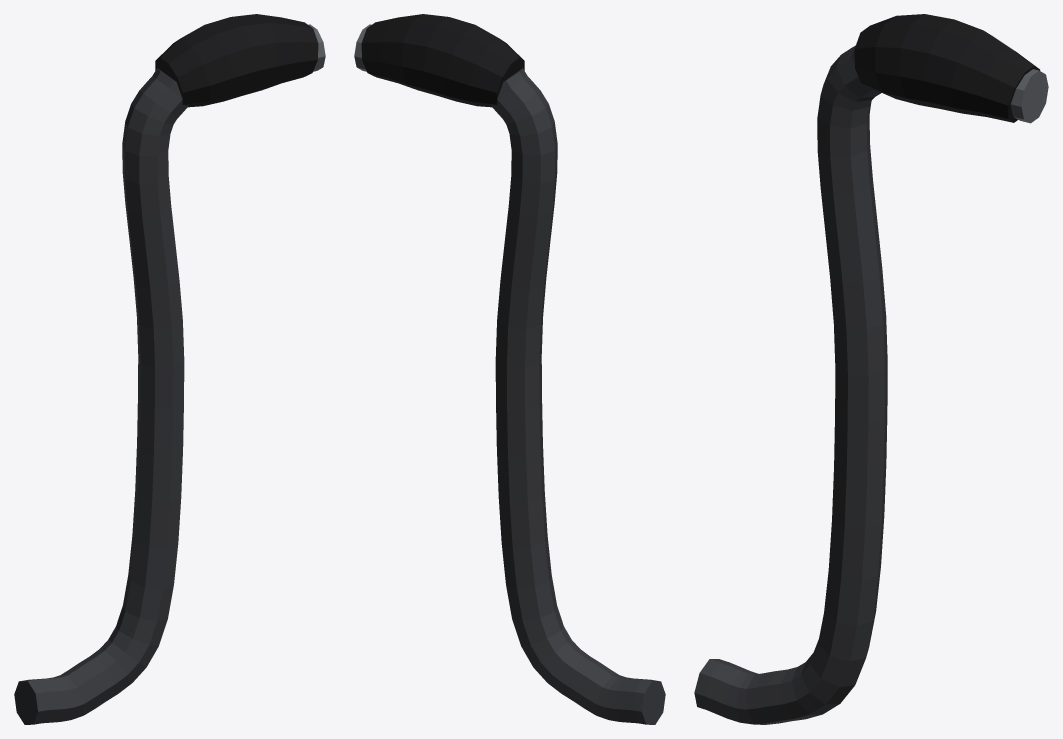
File: MinidoracatTesla_CablePlugModelS.fbx
3 renders of one model, left to right at view 1: azimuth 30°, elevation 25°; view 2: azimuth 150°, elevation 25°; view 3: azimuth 330°, elevation 25°, orthographic. The views are drawn at different scales.
Visible parts, largest first — view 1: MinidoracatTesla_CablePlugModelS; view 2: MinidoracatTesla_CablePlugModelS; view 3: MinidoracatTesla_CablePlugModelS.
Part boxes in pixels (<box>): MinidoracatTesla_CablePlugModelS: <box>14,14,325,724</box>; MinidoracatTesla_CablePlugModelS: <box>354,14,665,724</box>; MinidoracatTesla_CablePlugModelS: <box>694,14,1048,724</box>.
Bounding box in the file's own units: 0.3639 × 0.7893 × 0.088.
